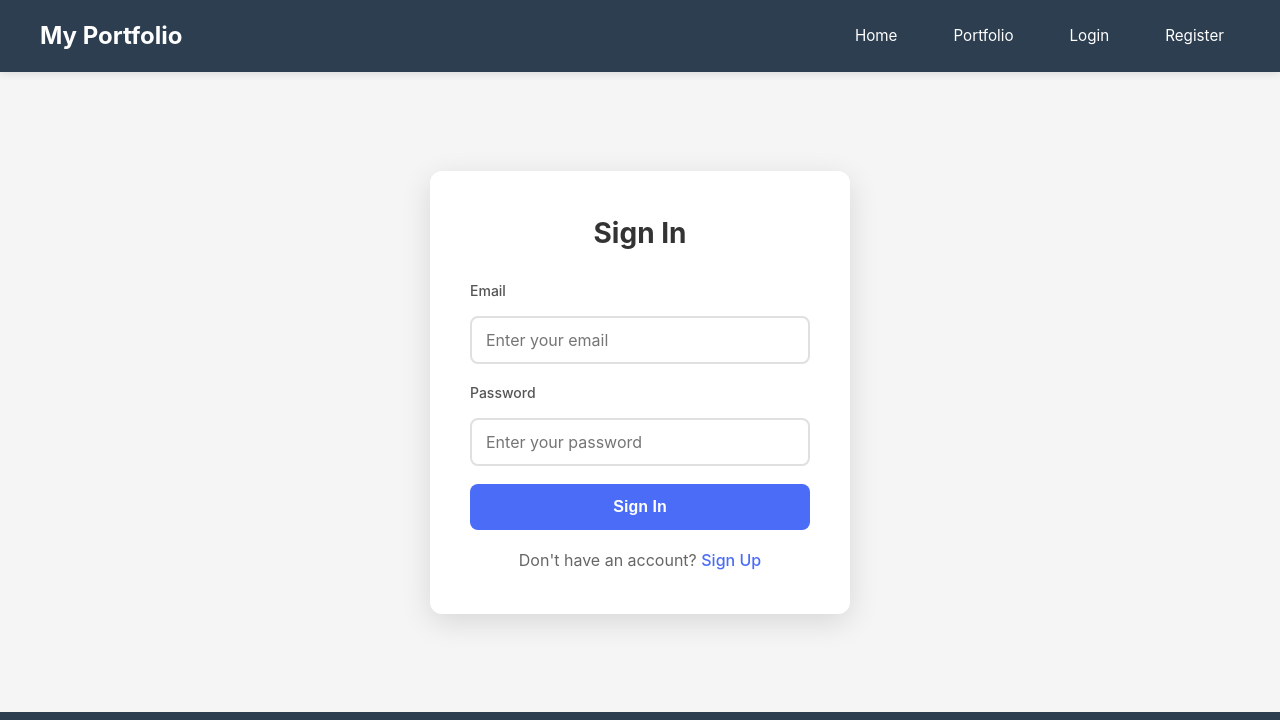
Test: Authentication Flow › Sign In › should show error for invalid credentials
In the field with placeholder "Enter your email": x=640, y=340 top-left (470, 316), bottom-right (810, 364), type "login@test.com"
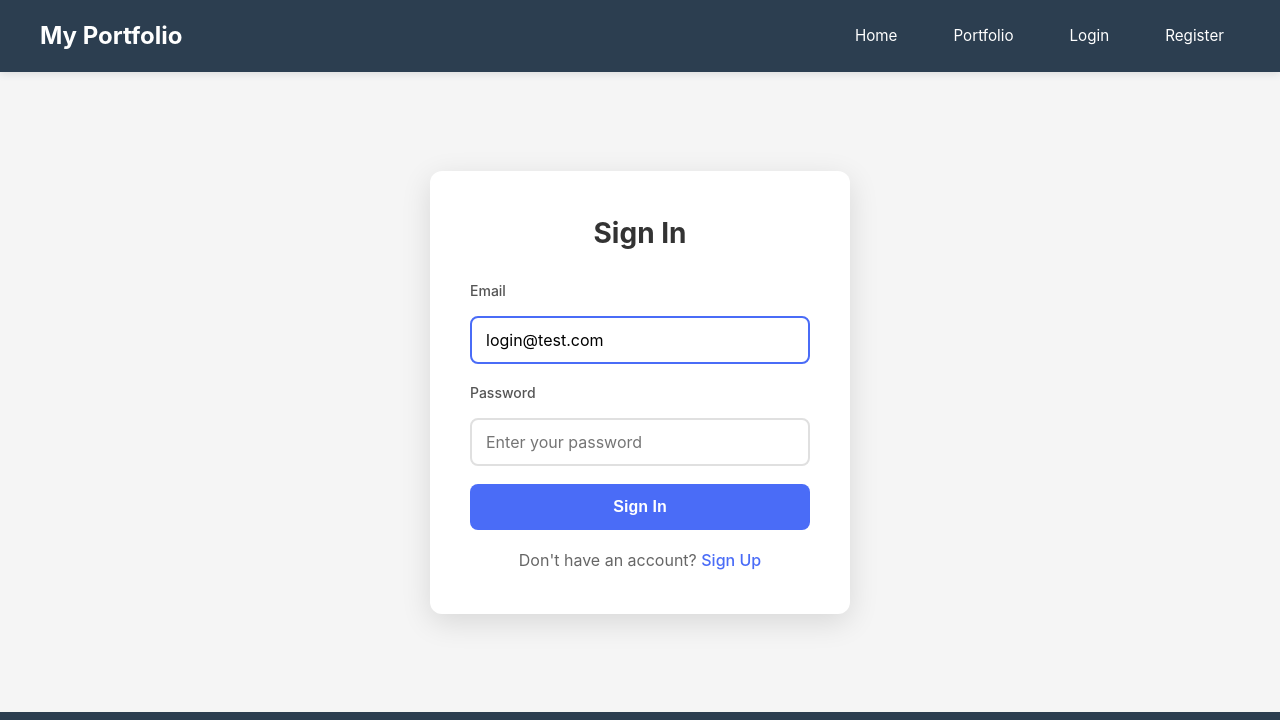
In the password field with placeholder "Enter your password": x=640, y=442 top-left (470, 418), bottom-right (810, 466), type "wrongpassword"
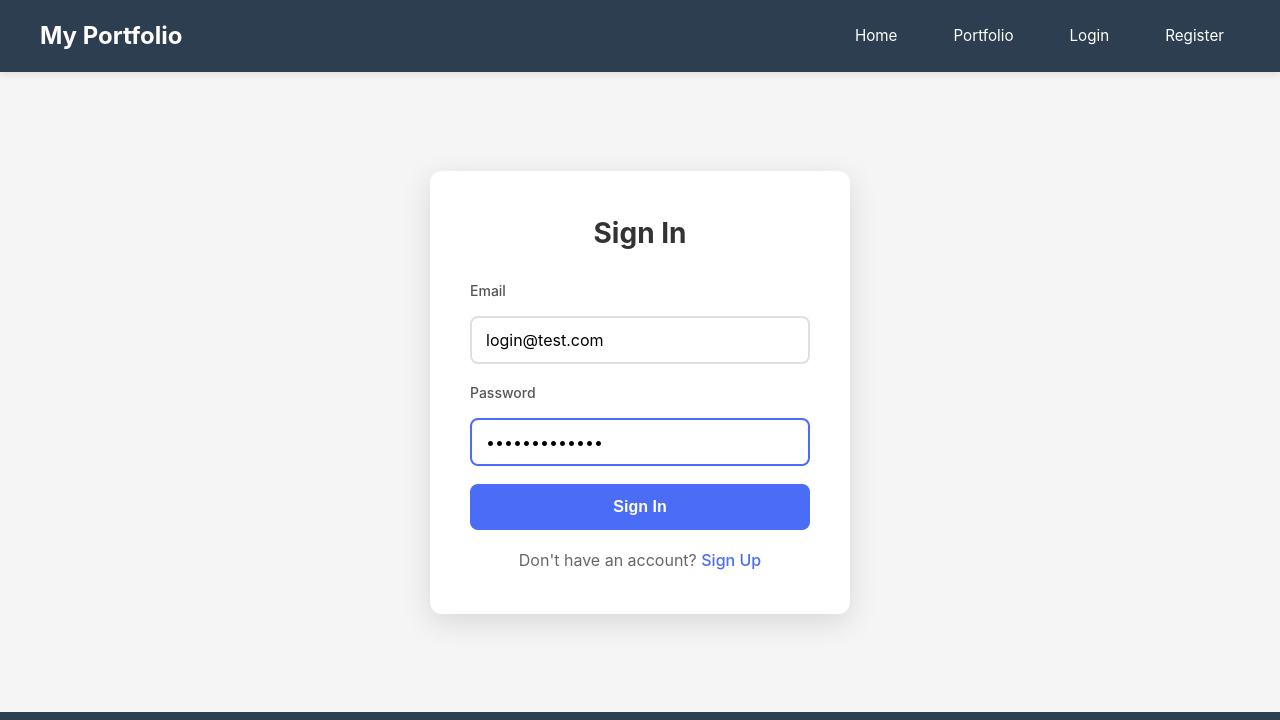
Click the submit button: x=640, y=507 top-left (470, 484), bottom-right (810, 530)
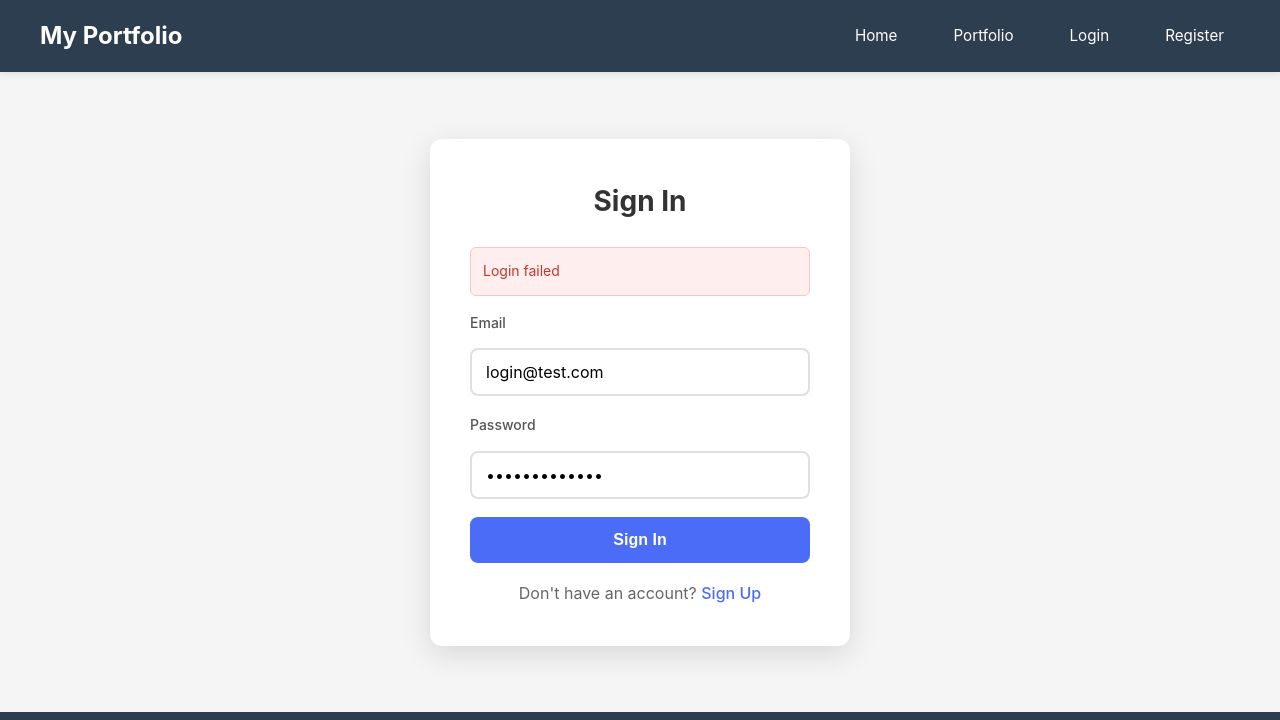
Now the text "Login failed" is shown, box top-left (470, 247), bottom-right (810, 296)
